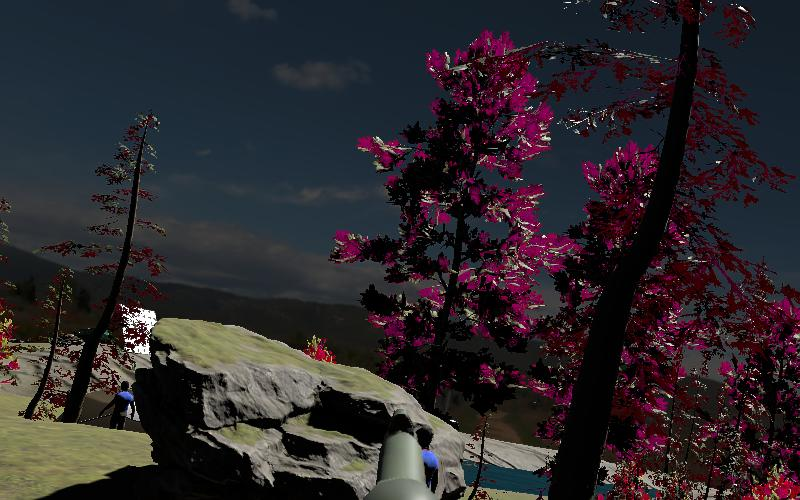Human: (109, 380, 136, 433)
